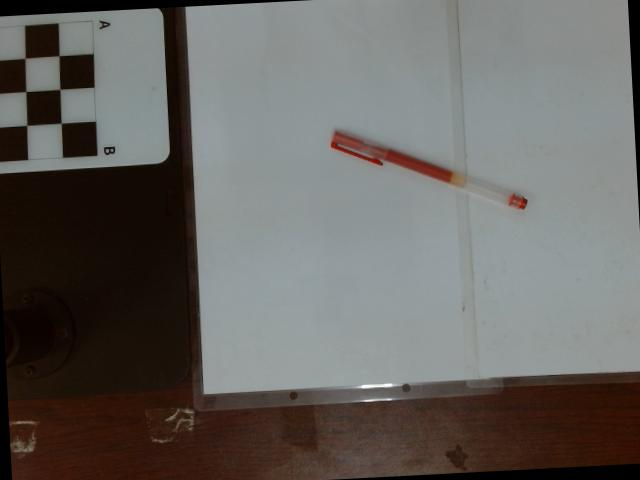PEN: (328, 128, 529, 217)
